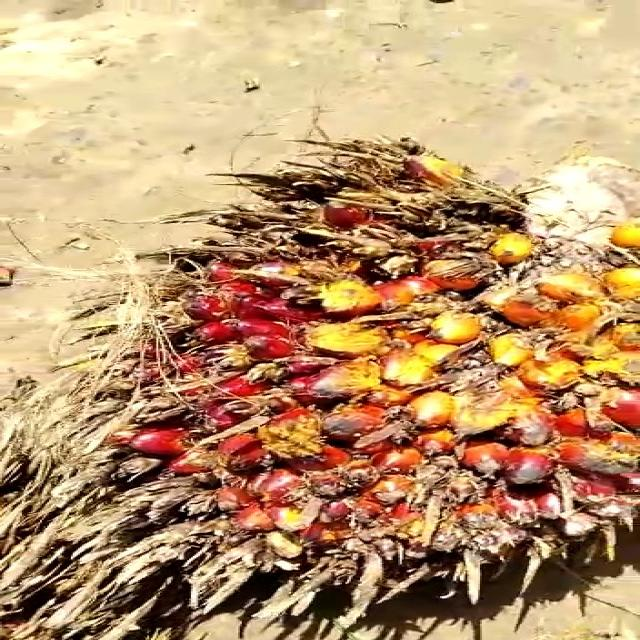palm oil: (81, 110, 640, 604)
